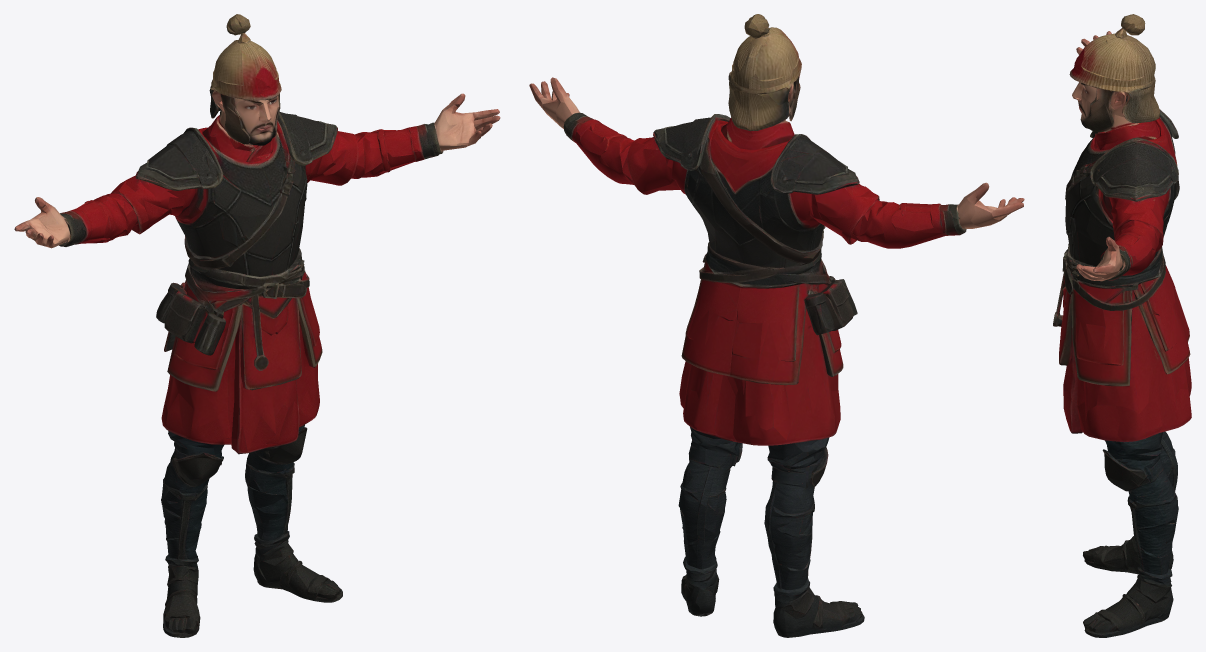
The model's file is char_LINH_r01.glb.
3 renders of one model, left to right at view 1: azimuth 30°, elevation 25°; view 2: azimuth 150°, elevation 25°; view 3: azimuth 270°, elevation 25°, orthographic. The views are drawn at different scales.
Size of the model in its own units: 1.65 by 1.9 by 0.4108.
Materials: 1 (1 with a texture image).
